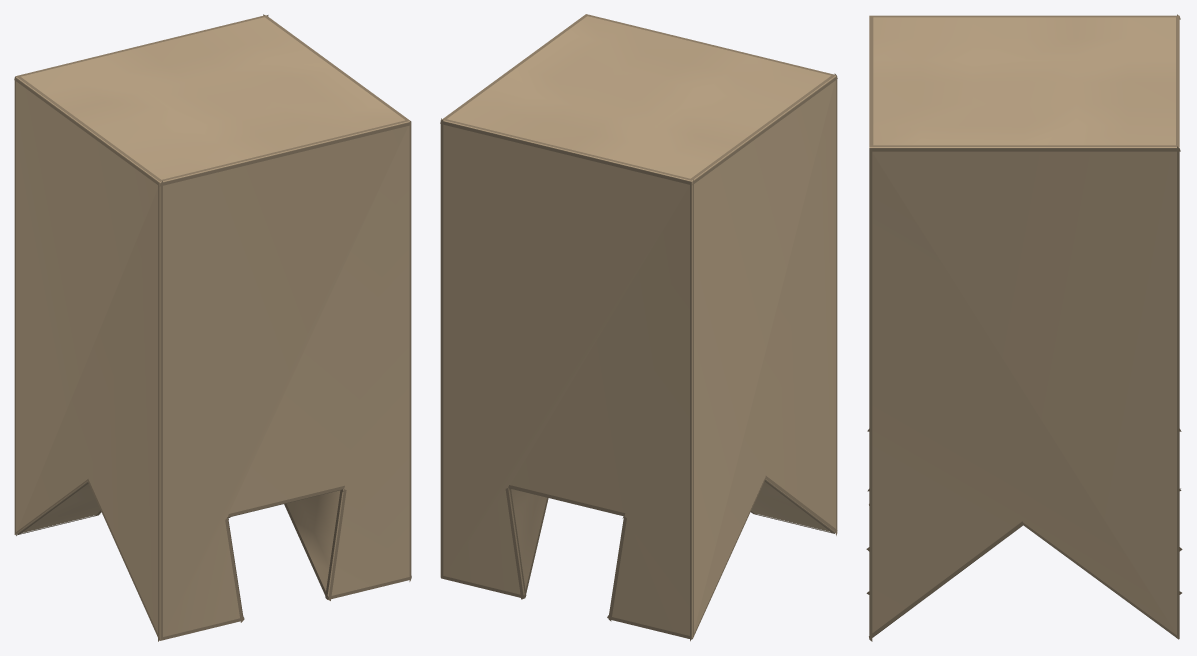
The picture shows the model from 3 angles, left to right: view 1: azimuth 30°, elevation 25°; view 2: azimuth 150°, elevation 25°; view 3: azimuth 270°, elevation 25°; orthographic projection. The views are drawn at different scales.
Visible parts, largest first — view 1: part-b; view 2: part-b; view 3: part-b.
Part boxes in pixels (bbox=[...]): part-b: bbox=[14, 14, 411, 641]; part-b: bbox=[440, 14, 837, 641]; part-b: bbox=[866, 14, 1182, 641].
Size of the model in its own units: 0.1208 by 0.2119 by 0.1223.
